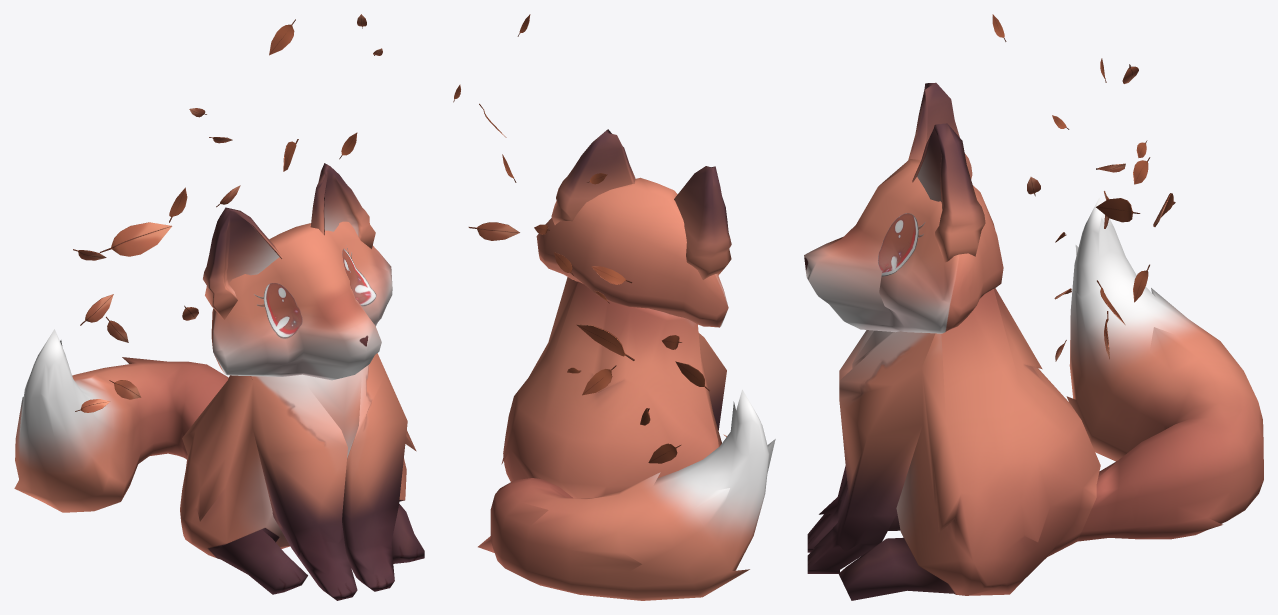
The model's file is low_poly_fox_model.glb.
3 renders of one model, left to right at view 1: azimuth 30°, elevation 25°; view 2: azimuth 150°, elevation 25°; view 3: azimuth 270°, elevation 25°, orthographic. The views are drawn at different scales.
Visible parts, largest first — view 1: body, head, ears, leaf2; view 2: body, head, ears, leaf2, leaf5, leaf15; view 3: body, head, ears, leaf5.
Part boxes in pixels (<box>): body: <box>14,329,424,600</box>; head: <box>211,221,392,380</box>; ears: <box>203,163,375,319</box>; leaf2: <box>100,222,171,256</box>; body: <box>478,277,775,600</box>; head: <box>536,177,728,327</box>; ears: <box>551,129,731,279</box>; leaf2: <box>576,324,634,360</box>; leaf5: <box>468,222,519,240</box>; leaf15: <box>582,365,616,395</box>; body: <box>807,198,1263,600</box>; head: <box>804,159,1003,333</box>; ears: <box>908,82,985,262</box>; leaf5: <box>1096,198,1140,222</box>.
Bounding box in the file's own units: 6.74 × 9.61 × 6.81.
1 material, 1 textured.
